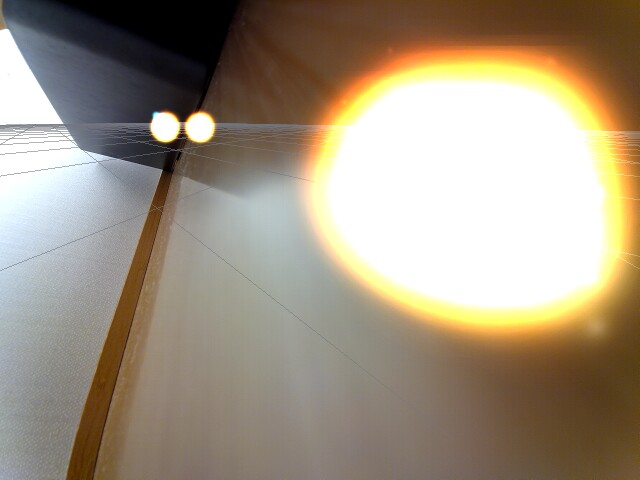firebig: (318, 24, 617, 351)
